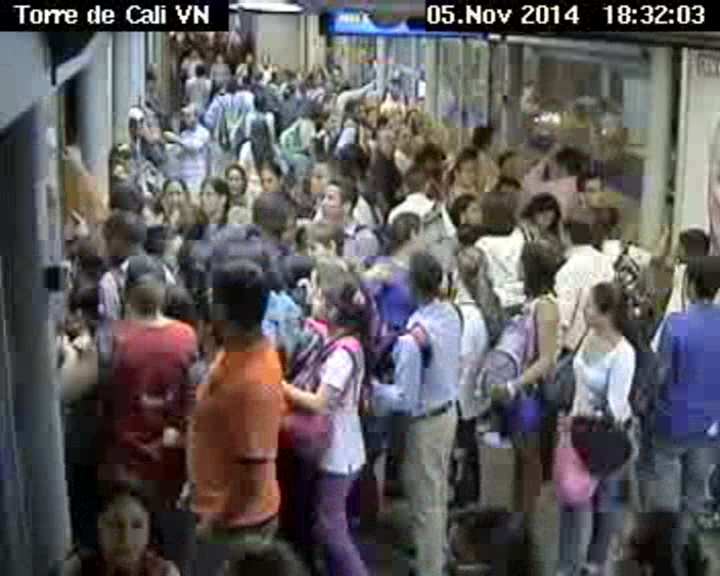person: (81, 477, 170, 573), (196, 261, 271, 341), (307, 279, 369, 330), (511, 239, 560, 302), (577, 277, 629, 336), (99, 206, 153, 262), (118, 254, 165, 318), (448, 243, 491, 304), (404, 251, 447, 308), (296, 216, 346, 264), (317, 172, 360, 224), (681, 252, 720, 308), (196, 175, 234, 232), (525, 191, 564, 241), (64, 279, 103, 329), (387, 208, 431, 251), (306, 151, 345, 195), (574, 171, 615, 210), (64, 236, 103, 277), (674, 226, 710, 270), (557, 205, 595, 246), (156, 173, 193, 213), (396, 161, 433, 196), (484, 172, 528, 200), (257, 157, 289, 193), (547, 144, 580, 177), (471, 123, 502, 158), (219, 161, 249, 194), (446, 158, 480, 187), (451, 193, 482, 224), (246, 112, 272, 147), (176, 99, 200, 130), (393, 124, 417, 154), (315, 106, 340, 129), (346, 98, 369, 123), (387, 74, 402, 99), (249, 92, 268, 111), (225, 75, 241, 96), (193, 63, 205, 76), (282, 84, 298, 93), (215, 52, 224, 65), (244, 53, 254, 63)
